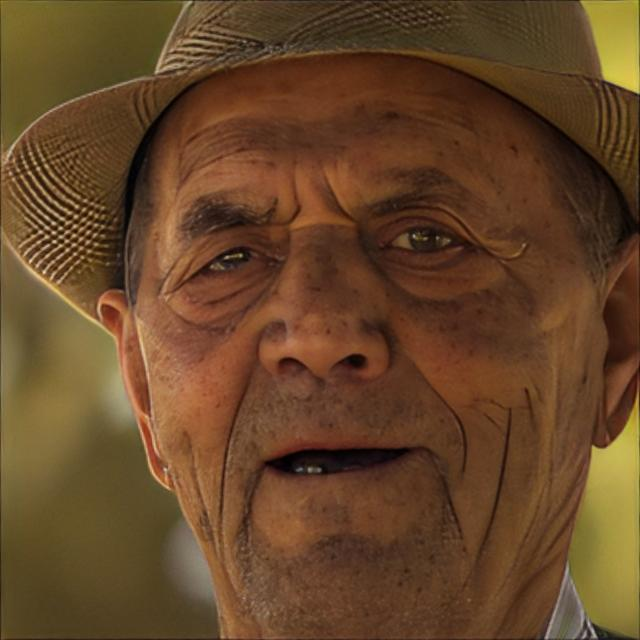anger: (137, 83, 571, 632)
